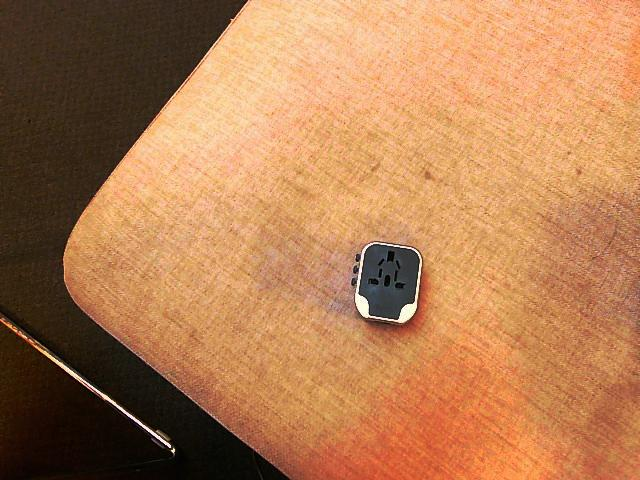adapter: (351, 240, 422, 324)
